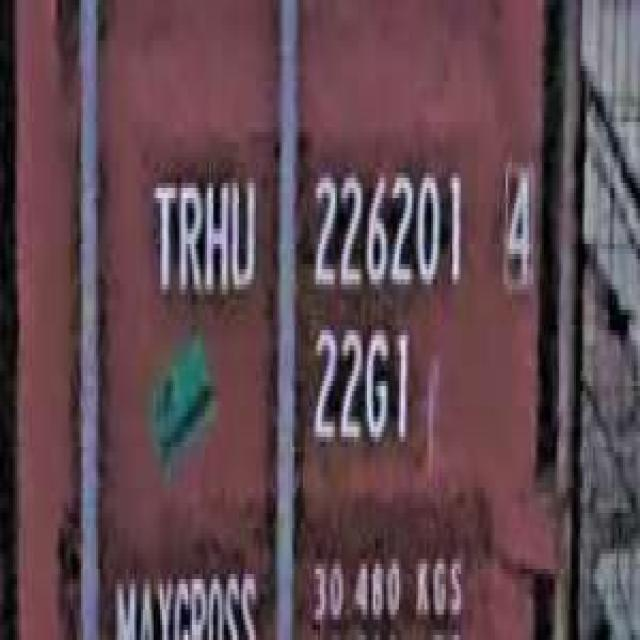dv: (495, 152, 538, 300)
owner: (147, 162, 260, 310)
serial: (305, 152, 469, 300)
size: (307, 315, 414, 457)
